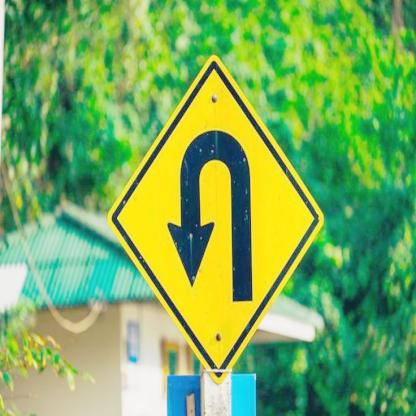U-turn: (108, 63, 329, 376)
